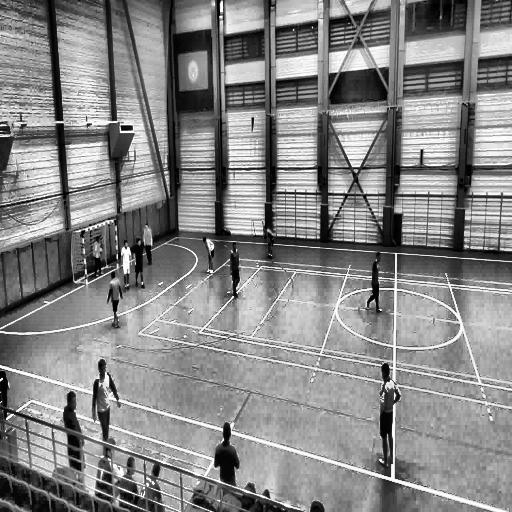player: (376, 360, 402, 469), (92, 363, 119, 452), (365, 251, 381, 313), (107, 270, 122, 327), (130, 238, 144, 288), (120, 240, 132, 290), (230, 240, 240, 296), (202, 236, 215, 276), (143, 224, 153, 267), (263, 224, 275, 258), (93, 236, 102, 278)
